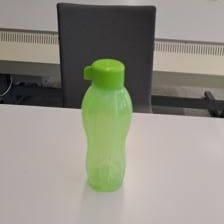bottle: (77, 60, 138, 192)
